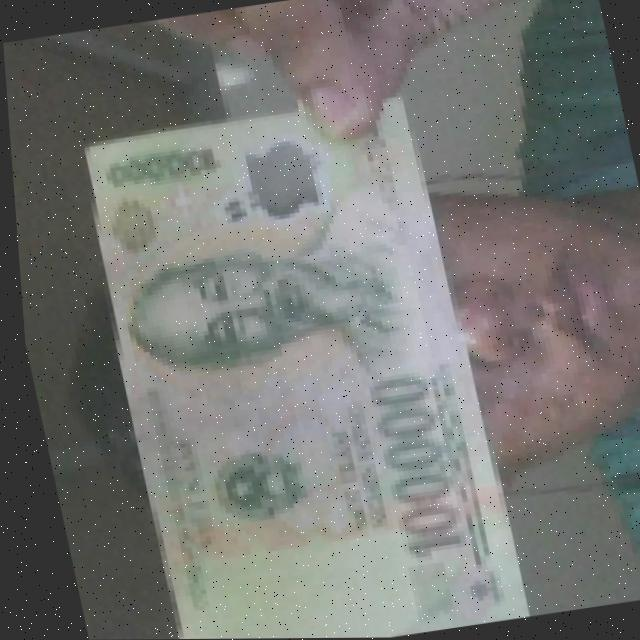100 000 VND: (55, 80, 526, 640)
